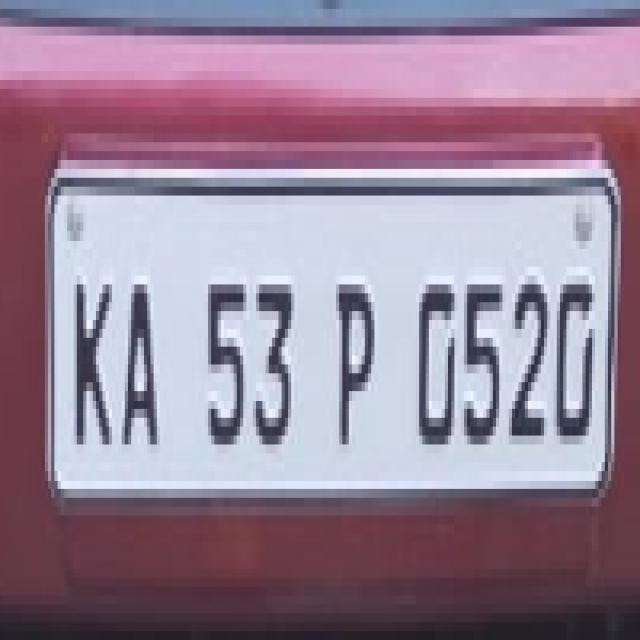0: (414, 268, 458, 450), (558, 263, 598, 451)
2: (508, 260, 554, 456)
3: (250, 262, 295, 452)
5: (202, 262, 248, 449), (460, 267, 502, 460)
A: (116, 267, 164, 460)
K: (72, 262, 111, 462)
P: (329, 264, 377, 456)
